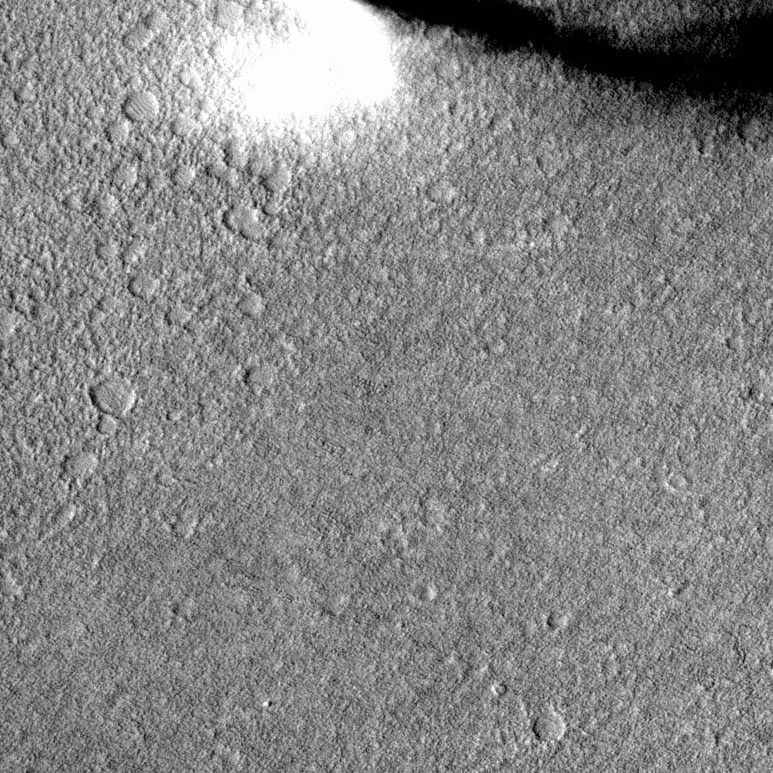dust_devil: (214, 1, 773, 134)
